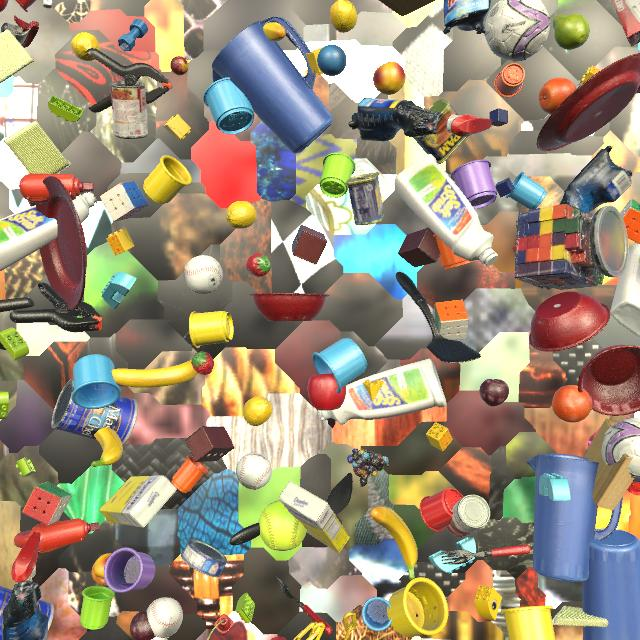ycb_002_master_chef_can: (51, 379, 138, 445), (0, 586, 54, 640)
ycb_003_cracker_box: (612, 0, 640, 47)
ycb_004_sugar_box: (279, 481, 350, 553), (99, 475, 177, 528)
ycb_005_tomato_soup_can: (110, 81, 148, 139), (446, 494, 490, 537)
ycb_007_tuna_fish_can: (181, 539, 227, 578)
ycb_010_potted_meat_can: (413, 99, 468, 164), (345, 172, 384, 225)
ycb_011_banana: (370, 506, 418, 580), (112, 360, 198, 388), (91, 427, 123, 467), (263, 22, 286, 42)
ycb_012_strawberry: (246, 253, 271, 277), (191, 351, 214, 375), (271, 636, 287, 640)
ycb_013_apple: (308, 373, 346, 410), (0, 0, 8, 12)
ycb_014_lemon: (330, 0, 357, 33), (243, 396, 272, 426), (226, 201, 257, 229), (71, 32, 100, 61)
ycb_015_peach: (373, 62, 406, 95), (92, 553, 112, 586)
ycb_016_pear: (553, 14, 590, 50)
ycb_017_orange: (552, 385, 592, 423), (539, 78, 576, 114)
ycb_018_plum: (479, 379, 509, 406), (130, 610, 156, 640)
